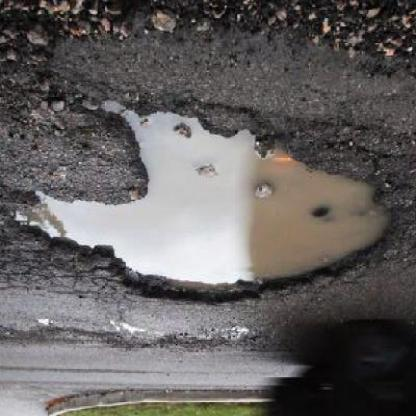pothole: (8, 97, 399, 313)
